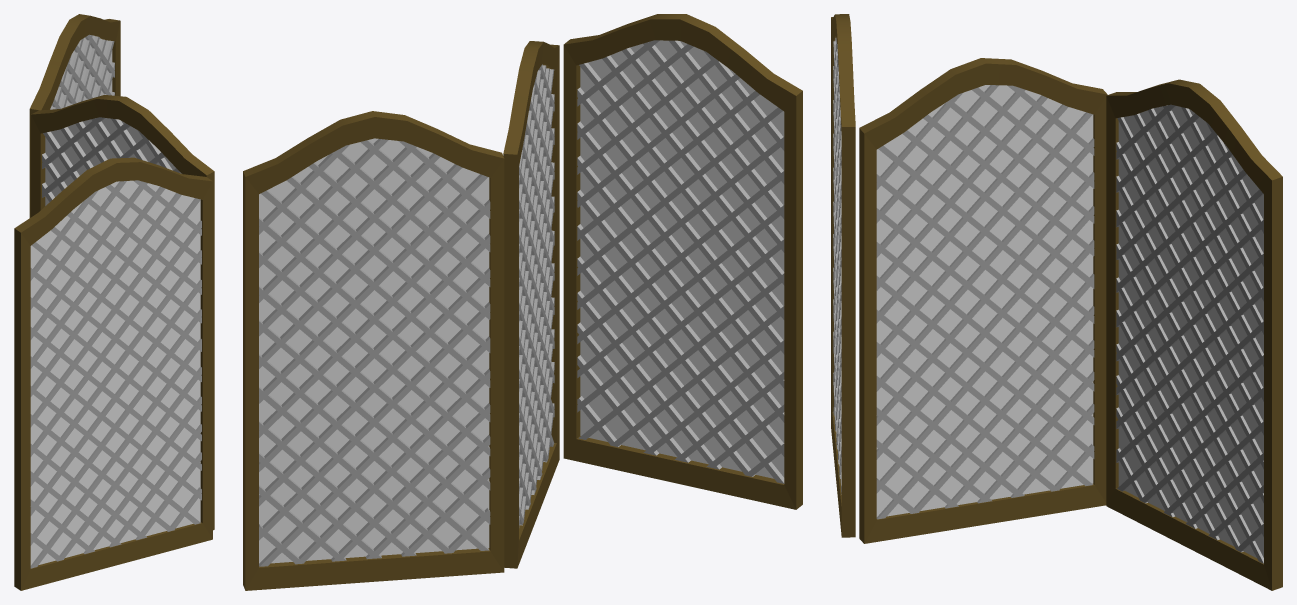
The model's file is Mesh_Dressing.fbx.
3 views of the same model, side by side, from view 1: azimuth 30°, elevation 25°; view 2: azimuth 150°, elevation 25°; view 3: azimuth 270°, elevation 25° (orthographic). The views are drawn at different scales.
Parts seen in each view (by area): view 1: Vestidor; view 2: Vestidor; view 3: Vestidor.
Boxes of the visible parts, left/top/right/bottom form: Vestidor: left=14, top=14, right=214, bottom=590; Vestidor: left=243, top=14, right=802, bottom=590; Vestidor: left=831, top=14, right=1282, bottom=590.
Size of the model in its own units: 479 by 630 by 560.
